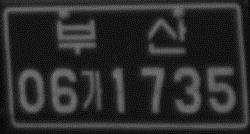0: (17, 68, 46, 115)
1: (108, 64, 128, 115)
3: (172, 64, 202, 116)
5: (205, 64, 237, 113)
6: (50, 67, 79, 115)
7: (138, 64, 166, 117)
가: (79, 68, 103, 112)
부산_D: (54, 16, 189, 57)
